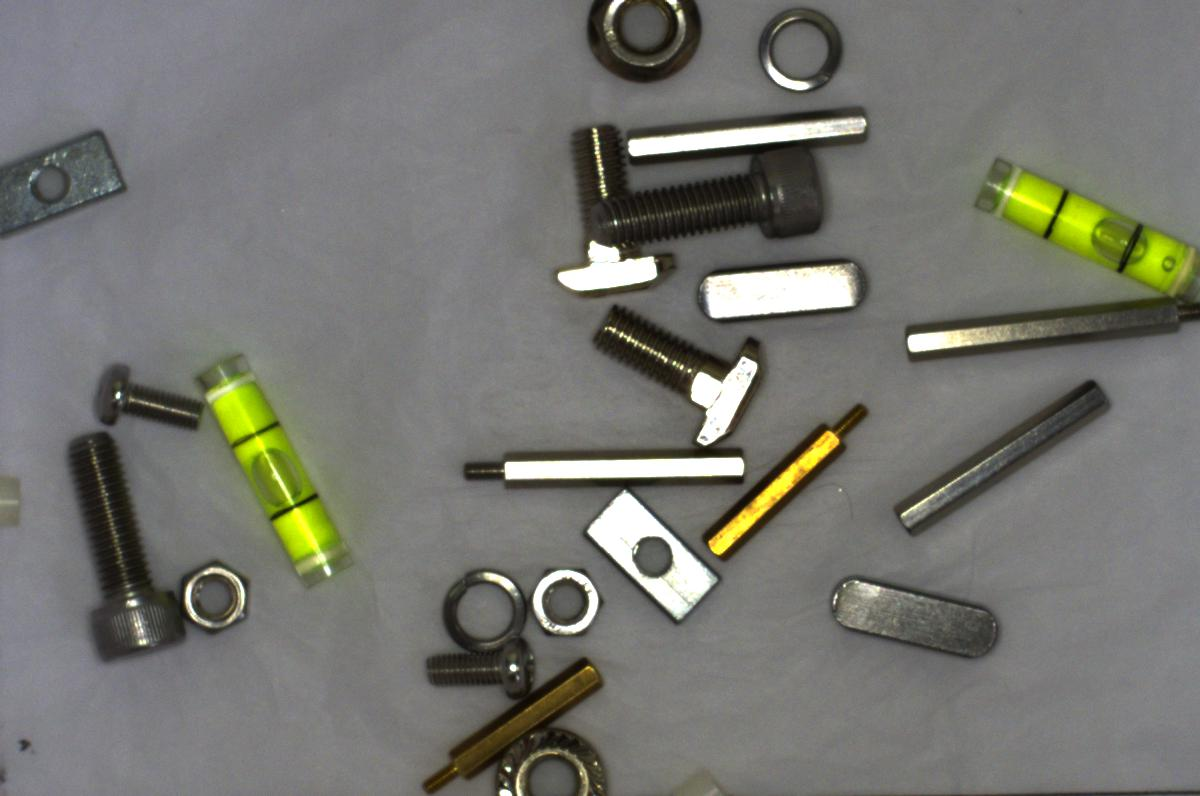Double hexagonal column: (889, 368, 1117, 539), (619, 95, 884, 163)
Flange nut: (569, 3, 714, 85), (488, 714, 619, 795)
Hexagon nut: (167, 554, 258, 635), (526, 558, 614, 639)
Hexagon pillar: (697, 403, 878, 560), (416, 658, 604, 795)
Hexagon screw: (47, 423, 198, 671), (594, 148, 832, 244)
Hexagonal steel column: (462, 427, 748, 508), (898, 295, 1189, 359)
Horizontal bubble: (187, 350, 357, 590), (971, 162, 1197, 298)
Keybar: (814, 571, 1012, 663), (675, 251, 871, 332)
Rectangular nut: (588, 486, 720, 623), (2, 121, 129, 249)
Round head screw: (73, 360, 210, 441), (410, 636, 546, 699)
Spring washer: (426, 558, 525, 653), (747, 6, 856, 92)
T-shaped screw: (570, 300, 774, 444), (552, 115, 679, 295)
